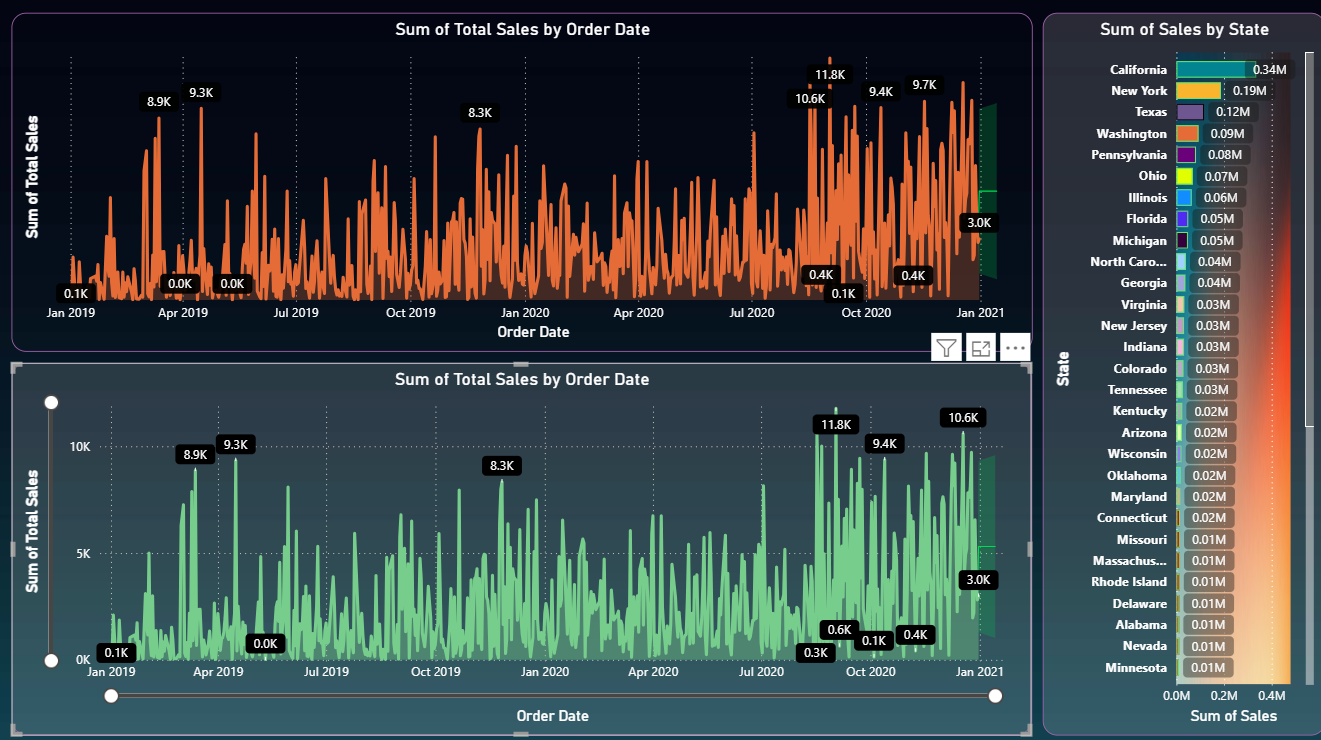

The page's visual inventory and layout, read from the dashboard file:
{"tool":"powerbi","page":{"name":"Forcasting","canvas":[1280,720],"ordinal":1},"visuals":[{"type":"lineChart","fields":{"Y":["Sum(SalesFoecast.Total Sales)"],"Category":["SalesFoecast.Order Date"]},"box":[12.1,13.3,985.7,326.9],"z":0},{"type":"lineChart","fields":{"Y":["Sum(SalesFoecast.Total Sales)"],"Category":["SalesFoecast.Order Date"]},"box":[12.1,351.1,984.5,359.5],"z":1000},{"type":"barChart","fields":{"Y":["Sum(SuperStore_Sales_Dataset.Sales)"],"Category":["SuperStore_Sales_Dataset.State"]},"box":[1007.4,13.3,272.7,697.3],"z":2000}]}

Visuals, with their boxes in screenshot pixels (x1, y1, x2, y2), scaled from the page's 1280x720 canvas onto the 1321x740 screenshot:
lineChart - Sum(SalesFoecast.Total Sales) x SalesFoecast.Order Date: x1=12 y1=14 x2=1030 y2=350
lineChart - Sum(SalesFoecast.Total Sales) x SalesFoecast.Order Date: x1=12 y1=361 x2=1029 y2=730
barChart - Sum(SuperStore_Sales_Dataset.Sales) x SuperStore_Sales_Dataset.State: x1=1040 y1=14 x2=1320 y2=730
